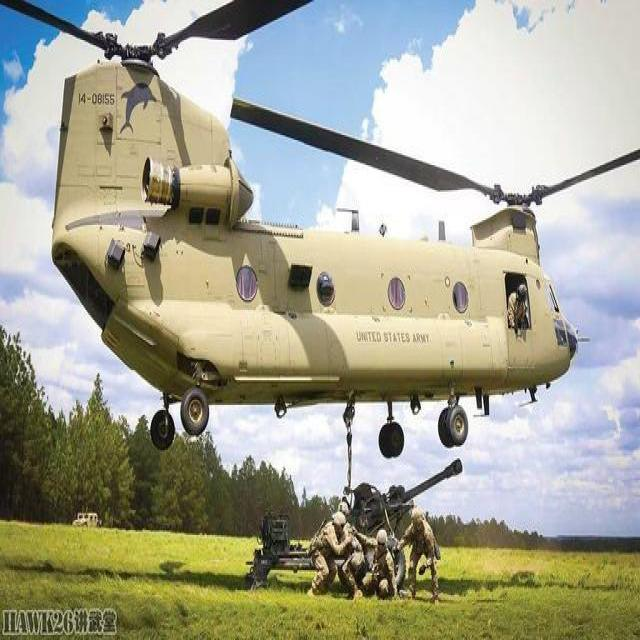MIL_HELO: (17, 0, 640, 455)
